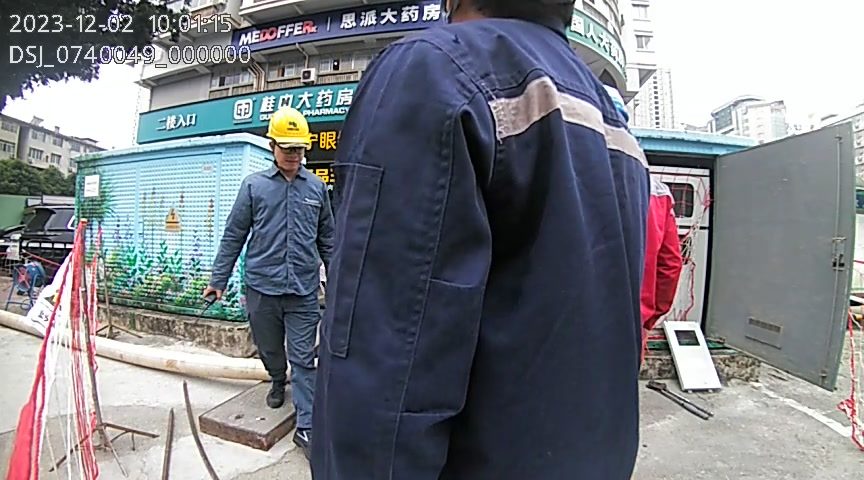halt: (266, 107, 313, 174)
hand: (204, 286, 222, 305)
person: (281, 1, 682, 478), (203, 106, 330, 456)
upsuit: (311, 11, 681, 480), (215, 169, 330, 296)
